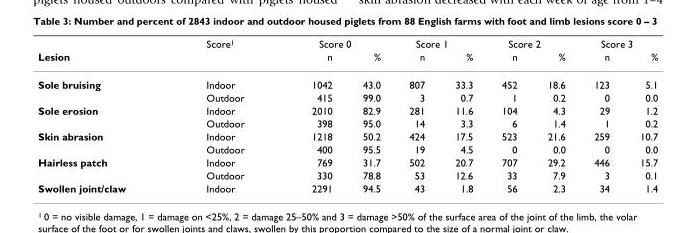table: (37, 37, 657, 193)
table column: (37, 37, 165, 193), (165, 37, 277, 193), (277, 37, 346, 193), (346, 37, 394, 193), (531, 37, 579, 193), (439, 37, 486, 193), (394, 37, 439, 193), (486, 37, 531, 193), (579, 37, 624, 193), (624, 37, 657, 193)
table column header: (37, 37, 657, 70)
table row: (37, 49, 657, 70), (37, 70, 657, 90), (37, 90, 657, 103), (37, 103, 657, 116), (37, 116, 657, 129), (37, 129, 657, 142), (37, 142, 657, 155), (37, 155, 657, 168), (37, 168, 657, 181), (37, 37, 657, 49), (37, 181, 657, 193)
table spanning cell: (37, 37, 165, 70), (37, 70, 165, 103), (165, 37, 277, 70), (37, 103, 165, 129), (37, 129, 165, 155), (37, 155, 165, 181), (277, 37, 394, 49), (486, 37, 579, 49), (394, 37, 486, 49), (579, 37, 657, 49)
